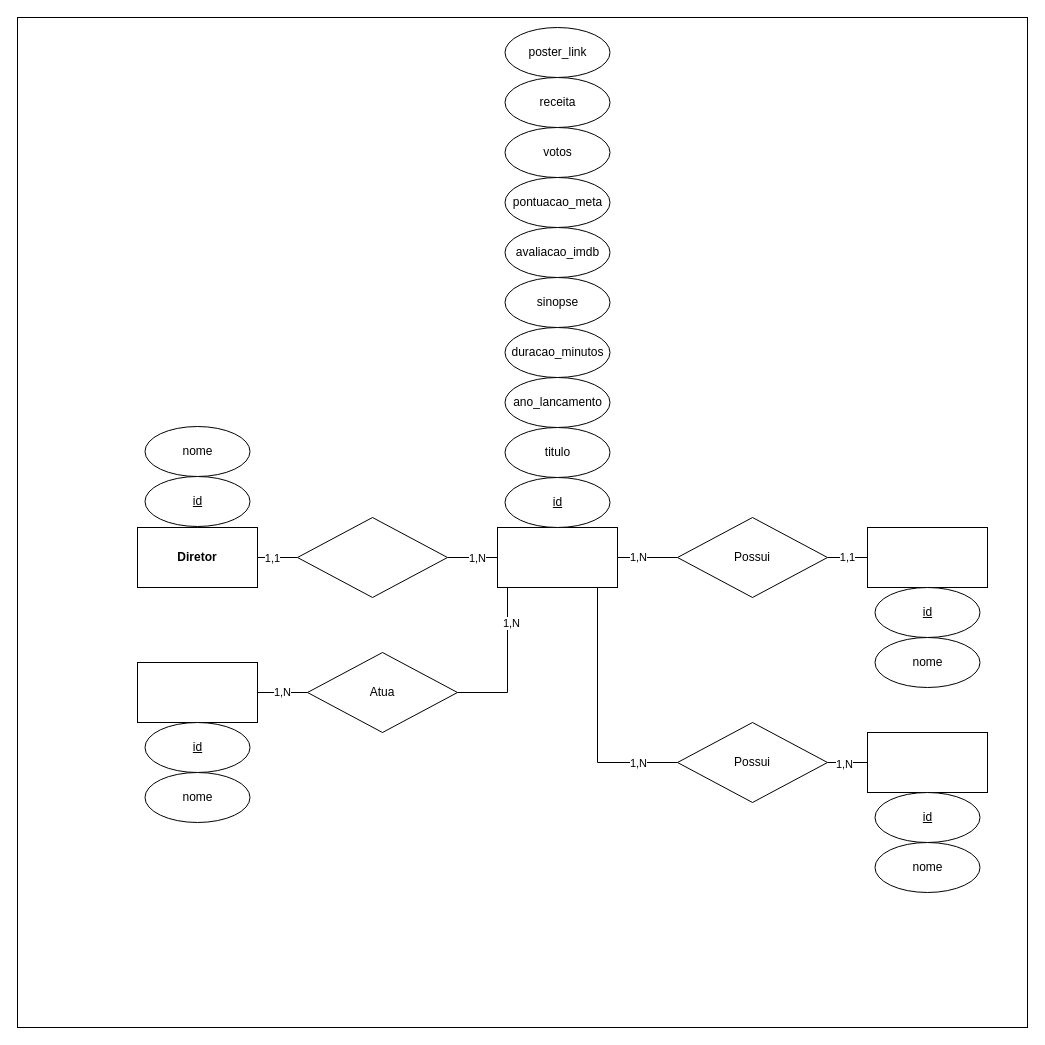
The diagram is 1045 pixels wide and 1045 high, and some of its shapes have lost their labels. Each missing label, with the box of its shape:
Ator: (136, 662, 258, 722)
Classifição Indicativa: (866, 526, 988, 588)
Dirige: (296, 516, 448, 598)
Filme: (496, 526, 618, 588)
Gênero: (866, 732, 988, 792)
